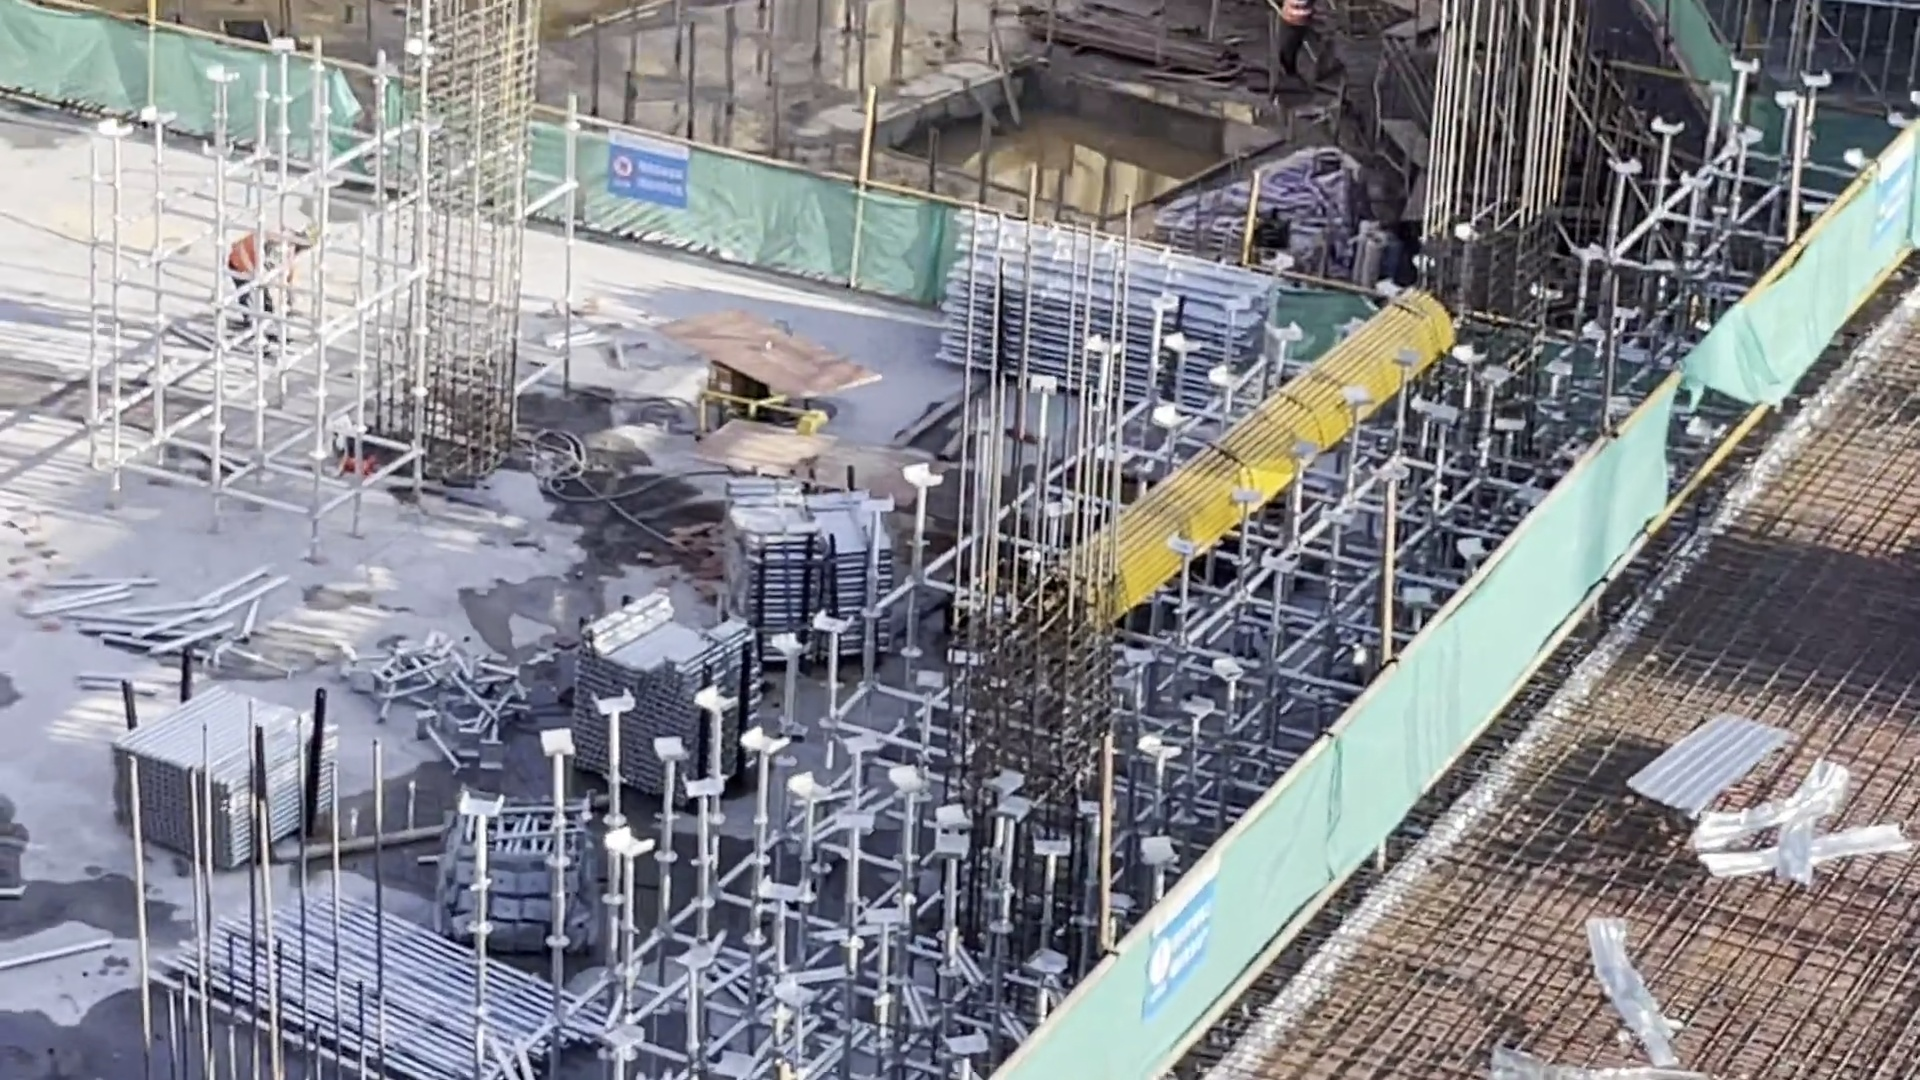cutter: (688, 320, 861, 419), (718, 432, 910, 518)
helmet: (287, 227, 317, 255)
person: (221, 231, 312, 343), (1272, 1, 1326, 89)
scaffold: (216, 893, 599, 1069), (956, 243, 1227, 409), (160, 699, 368, 820), (739, 489, 889, 648), (587, 640, 720, 765)
slogan: (1138, 894, 1223, 997), (614, 134, 697, 212)
vest: (224, 240, 285, 277), (1284, 1, 1317, 27)
